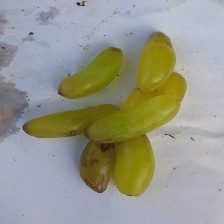grapes: (16, 54, 172, 208)
